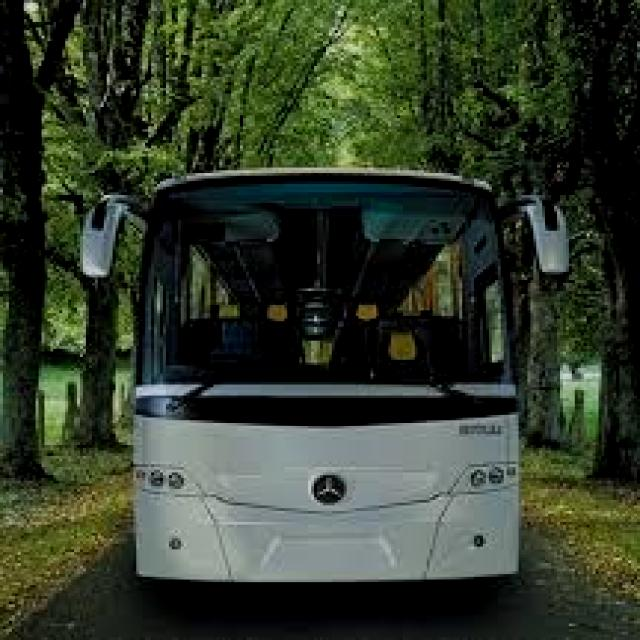bus: (65, 150, 581, 607)
